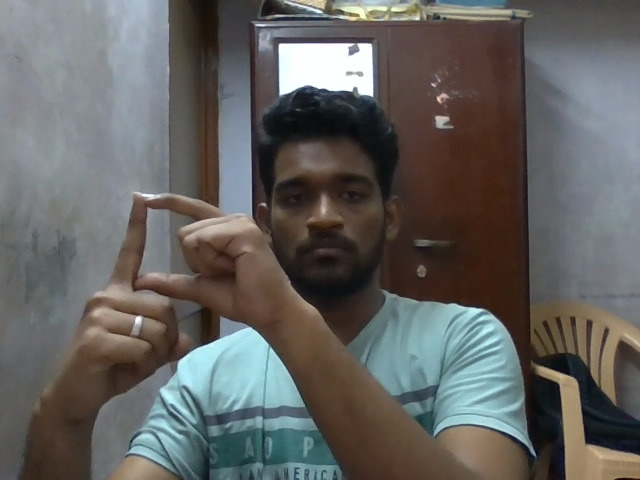D: (40, 187, 289, 411)
